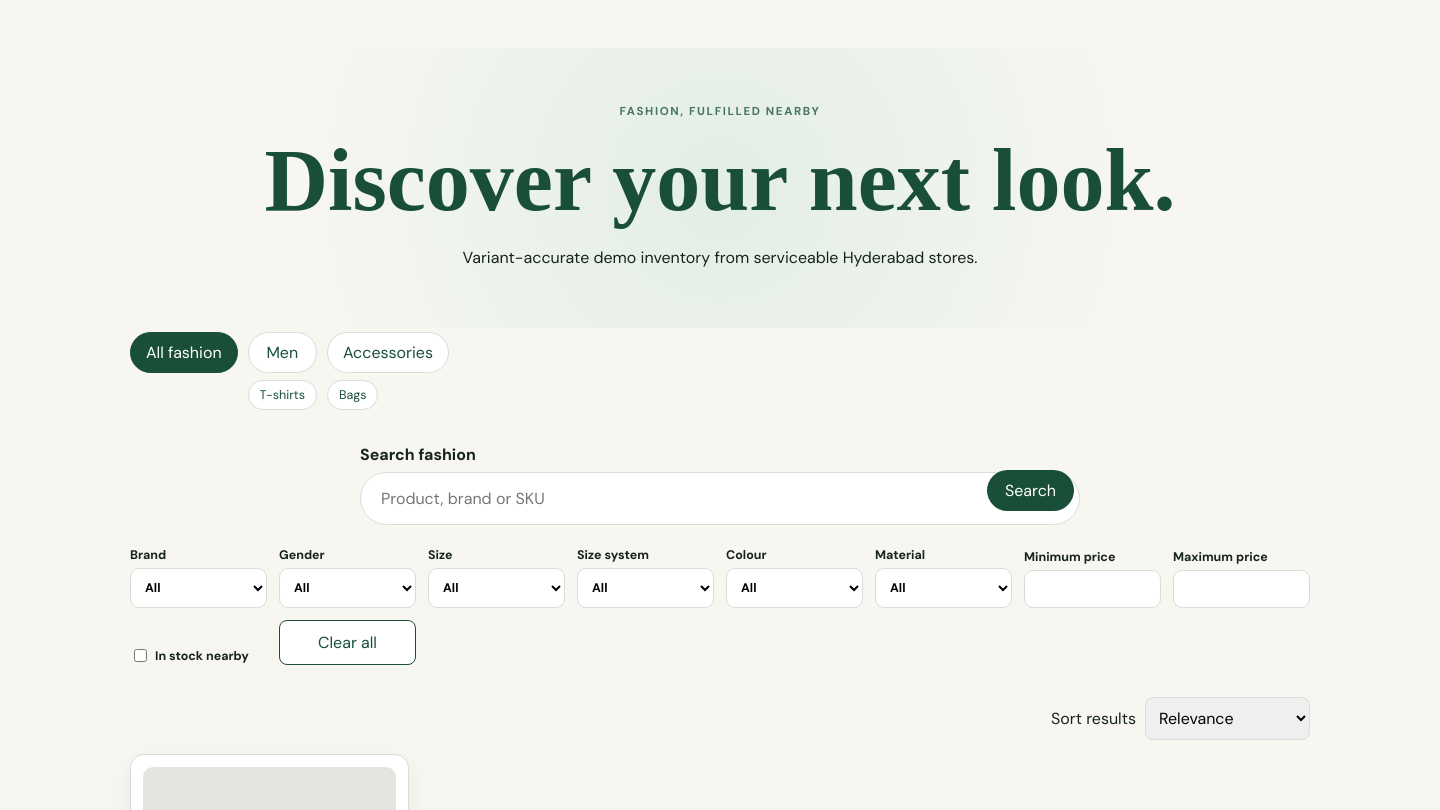
Test: completed discovery experience › debounces autocomplete and selects product suggestions
In the dropdown labelled "Search fashion": (720, 498) [360,472,1080,525], type "Fa"
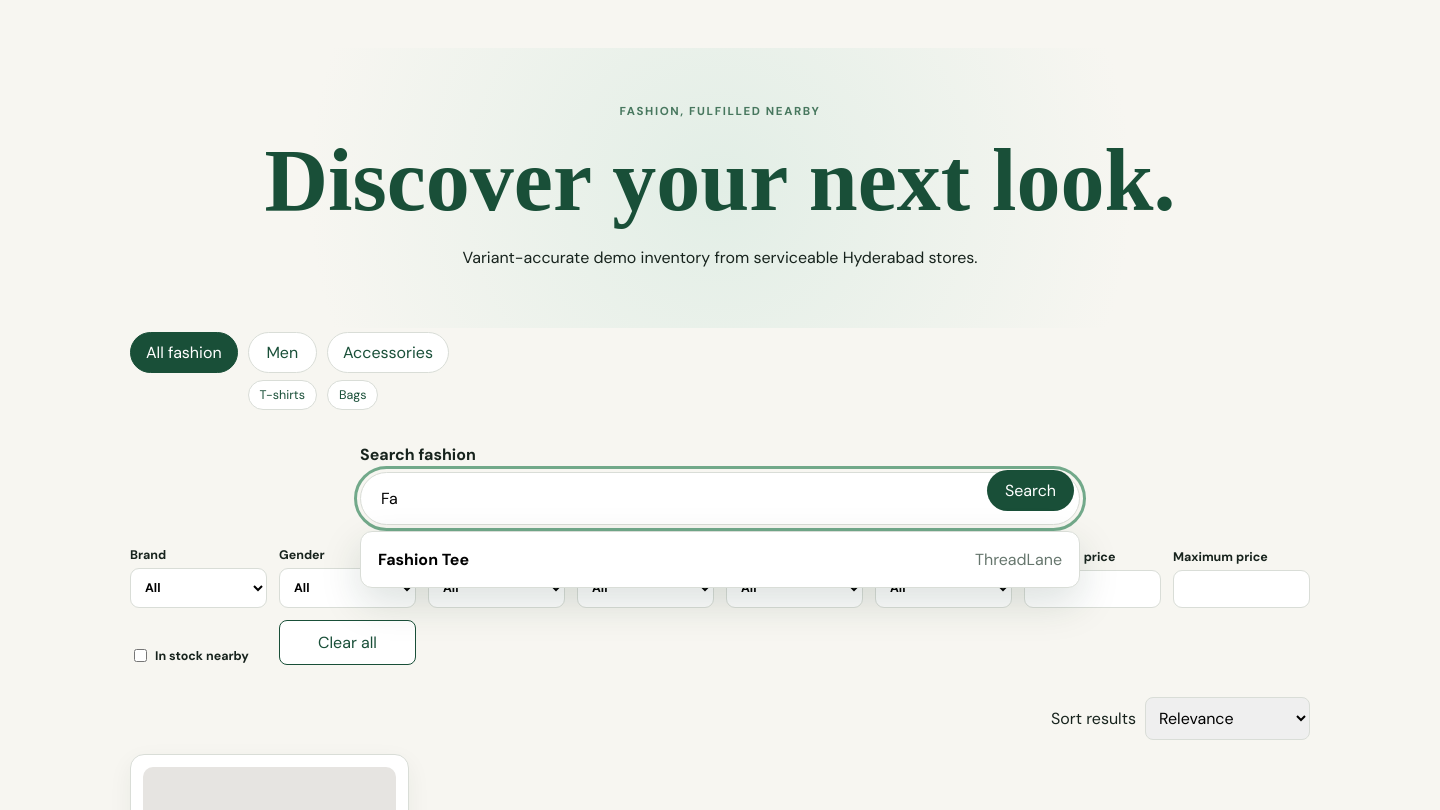
Result: the option "Fashion Tee ThreadLane" is shown
Click the option "Fashion Tee ThreadLane": click(424, 560) [367,538,1073,581]
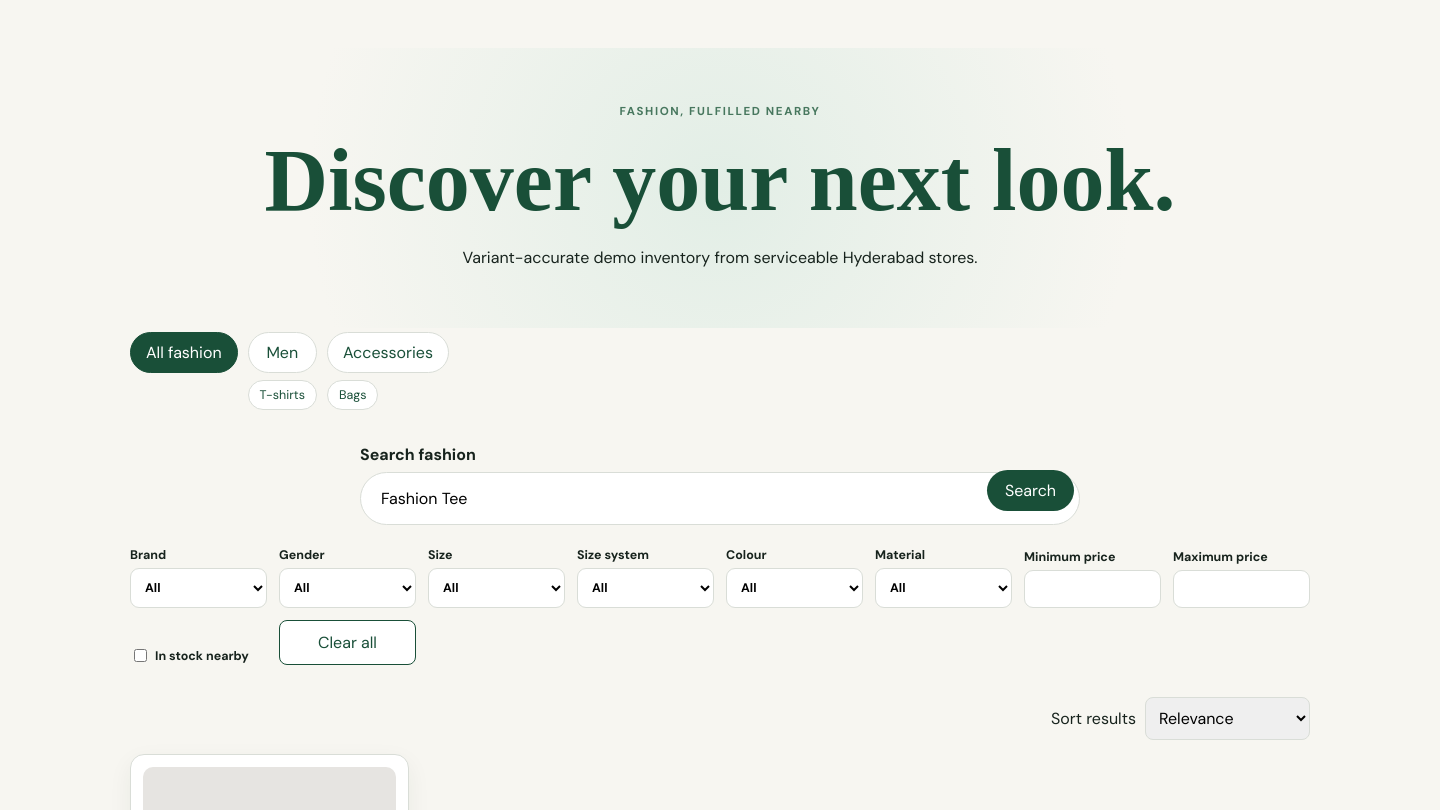
Result: the dropdown labelled "Search fashion" holds "Fashion Tee" at [360,472,1080,525]
Result: the list is gone
